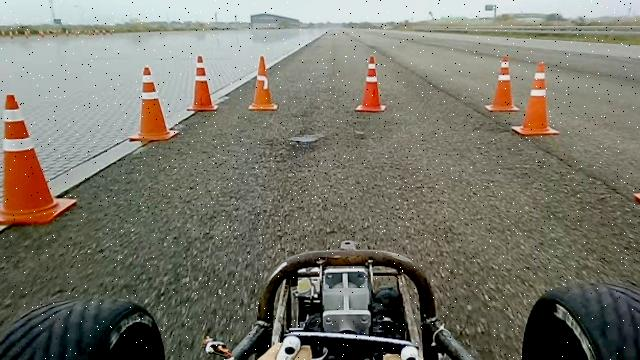red cone: (0, 93, 77, 226), (127, 65, 179, 142), (511, 58, 560, 134), (485, 55, 520, 112), (354, 55, 387, 112), (186, 55, 218, 112), (248, 54, 278, 110)
